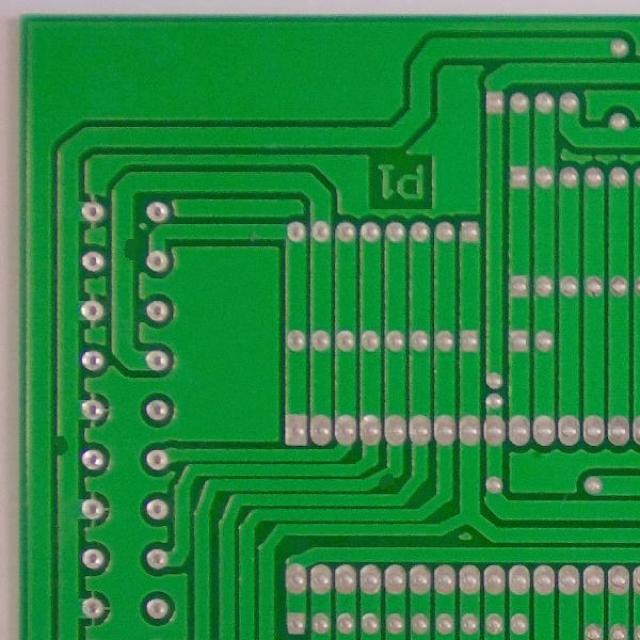mouse_bite: (114, 235, 141, 262), (370, 469, 400, 491), (50, 432, 73, 460)
